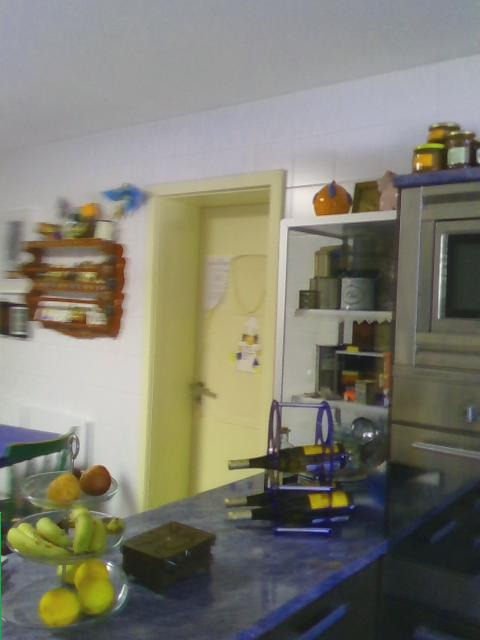closed_door: (142, 168, 284, 523)
